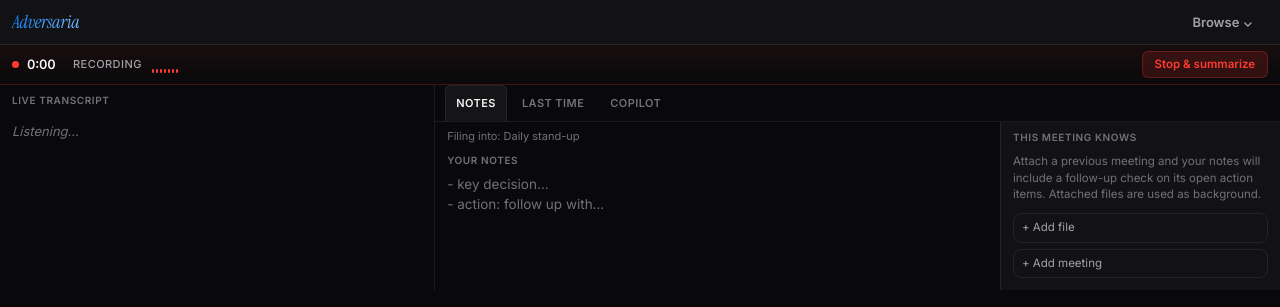
Test: RecordingCompanion › shows Filing into line in Notes tab when folder set
Expected: the text "Filing into: Daily stand-up" is shown, [447,129,580,143]
Click the tab "Last time" at (553, 103), box [511,85,595,121]
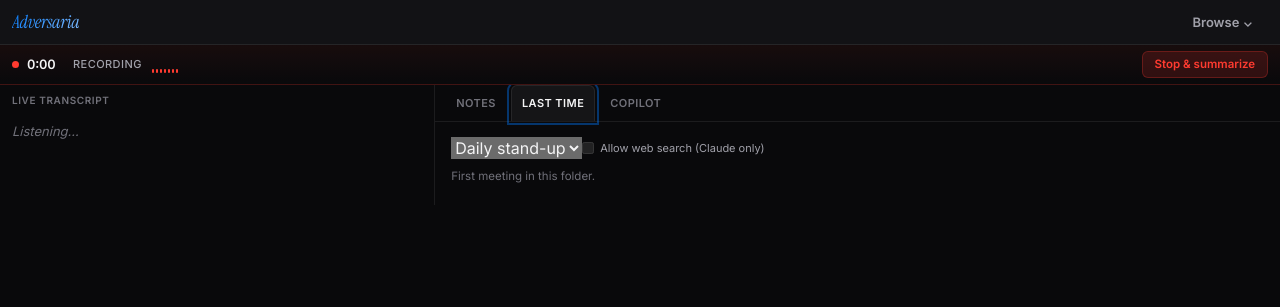
Expected: the text "Filing into: Daily stand-up" is gone
